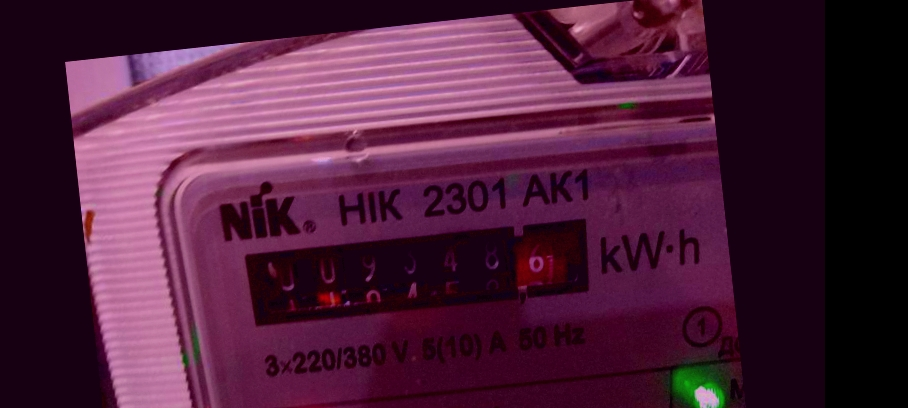0: (314, 250, 339, 288), (274, 257, 297, 294)
3: (396, 242, 421, 276)
4: (435, 238, 460, 277)
6: (523, 238, 549, 275)
8: (478, 235, 502, 271)
9: (357, 247, 379, 282)
screen: (219, 201, 613, 344)
